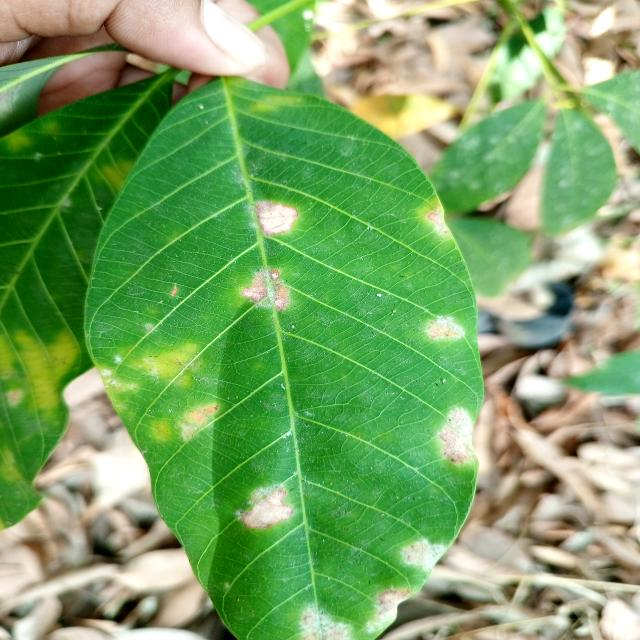Leaf-Blight: (240, 488, 294, 530), (440, 409, 476, 465), (256, 202, 298, 236)
